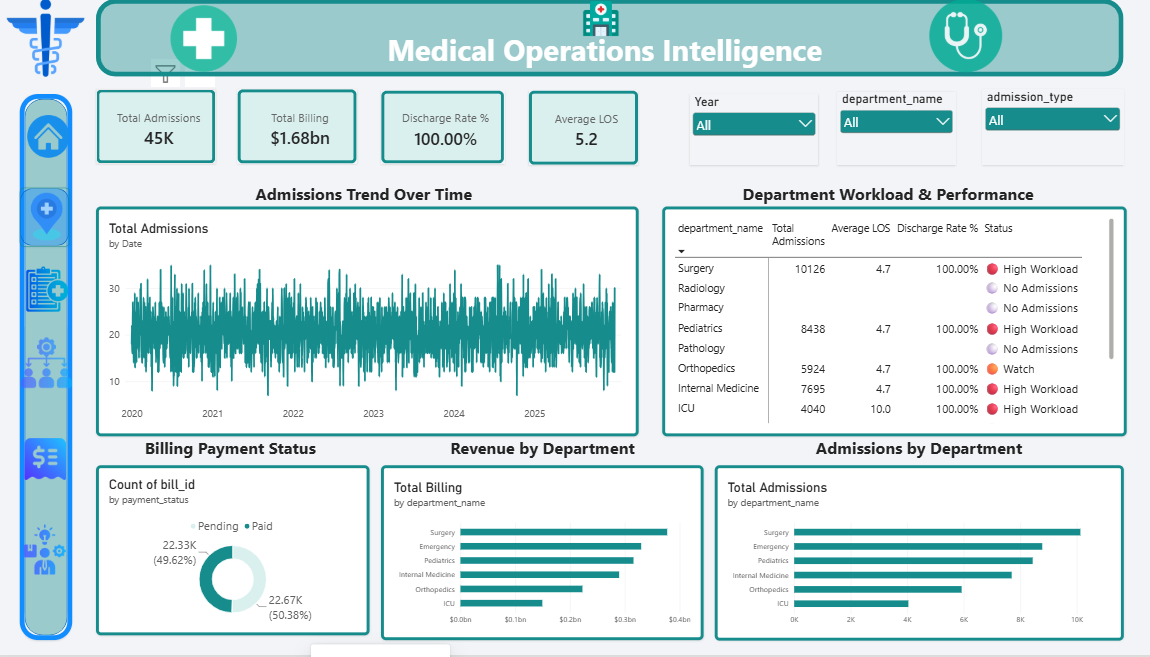

This screenshot's page, from the dashboard's own definition file:
{"tool":"powerbi","page":{"name":"Hospital Overview","canvas":[1920,1080],"ordinal":1},"visuals":[{"type":"cardVisual","fields":{"Data":["Measures (2).Total Admissions"]},"box":[164.7,148.2,197.6,123.5],"z":0},{"type":"cardVisual","fields":{"Data":["Measures (2).Total Billing"]},"box":[397.3,148.2,197.6,123.5],"z":1000},{"type":"cardVisual","fields":{"Data":["Measures (2).Discharge Rate %"]},"box":[634,150.3,203.8,121.4],"z":2000},{"type":"cardVisual","fields":{"Data":["Measures (2).Average LOS"]},"box":[876.8,150.3,181.1,123.5],"z":3000},{"type":"lineChart","fields":{"Category":["Calendar.Date"],"Y":["Measures (2).Total Admissions"]},"box":[164.7,341.7,893.3,378.7],"z":4000},{"type":"clusteredBarChart","fields":{"Category":["department_clean.department_name"],"Y":["Measures (2).Total Billing"]},"box":[634,767.8,531,288.2],"z":5000},{"type":"donutChart","fields":{"Category":["billing_clean.payment_status"],"Y":["CountNonNull(billing_clean.bill_id)"]},"box":[164.7,767.8,450.8,279.9],"z":6000},{"type":"barChart","fields":{"Category":["department_clean.department_name"],"Y":["Measures (2).Total Admissions"]},"box":[1183.3,767.4,674,289.2],"z":7000},{"type":"slicer","fields":{"Values":["Calendar.Year"]},"box":[1142.4,156.4,212,117.3],"z":8000},{"type":"slicer","fields":{"Values":["department_clean.department_name"]},"box":[1385.3,152.3,195.5,121.4],"z":9000},{"type":"slicer","fields":{"Values":["admission_clean.admission_type"]},"box":[1624,148.2,232.6,125.6],"z":10000},{"type":"textbox","box":[63.8,30.9,1691.9,96.7],"z":11000},{"type":"shape","box":[164.7,0,1691.9,127.6],"z":12000},{"type":"image","box":[216.8,11.2,252.5,109.5],"z":13000},{"type":"image","box":[10.3,0,142,127.6],"z":14000},{"type":"textbox","box":[500.2,49.4,1004.5,78.2],"z":15000},{"type":"image","box":[1483.8,0,225.7,120.7],"z":16000},{"type":"image","box":[934.5,0,123.5,63.8],"z":17000},{"type":"shape","box":[39.1,156.4,86.4,899.5],"z":18000},{"type":"image","box":[51.4,178.8,70,94.7],"z":19000},{"type":"image","box":[39.1,679.2,84.4,156.4],"z":20000},{"type":"image","box":[41.2,496.1,84.4,205.8],"z":21000},{"type":"image","box":[39.1,835.7,82.3,142],"z":22000},{"type":"image","box":[30.9,440.5,107,74.1],"z":23000},{"type":"pivotTable","fields":{"Rows":["department_clean.department_name"],"Values":["Measures (2).Total Admissions","Measures (2).Average LOS","Measures (2).Discharge Rate %","Measures (2).Status"]},"box":[1096.6,342.5,765.2,378.1],"z":24000},{"type":"image","box":[26.8,319.6,114,78.2],"z":25000},{"type":"textbox","box":[100.6,272.6,299.4,87.2],"z":26000},{"type":"textbox","box":[154.2,301.7,902.8,58.1],"z":27000},{"type":"textbox","box":[1097.2,301.7,744.1,40.2],"z":28000},{"type":"textbox","box":[154.2,719.6,462.6,49.2],"z":29000},{"type":"textbox","box":[634.6,719.6,531.9,49.2],"z":30000},{"type":"textbox","box":[1184.4,719.6,672.6,49.2],"z":31000},{"type":"shape","box":[39.1,310.8,82.3,96.7],"z":32000}]}

Visuals, with their boxes in screenshot pixels (x1, y1, x2, y2):
cardVisual - Measures (2).Total Admissions: 92/85/213/160
cardVisual - Measures (2).Total Billing: 234/85/355/160
cardVisual - Measures (2).Discharge Rate %: 379/86/504/160
cardVisual - Measures (2).Average LOS: 528/86/639/162
lineChart - Calendar.Date x Measures (2).Total Admissions: 92/203/639/435
clusteredBarChart - department_clean.department_name x Measures (2).Total Billing: 379/464/704/641
donutChart - billing_clean.payment_status x CountNonNull(billing_clean.bill_id): 92/464/368/636
barChart - department_clean.department_name x Measures (2).Total Admissions: 716/464/1128/641
slicer - Calendar.Year: 691/90/820/162
slicer - department_clean.department_name: 839/87/959/162
slicer - admission_clean.admission_type: 986/85/1128/162
textbox: 30/13/1066/72
shape: 92/0/1128/72
image: 124/1/278/68
image: 0/0/84/72
textbox: 297/24/912/72
image: 900/0/1038/68
image: 563/0/639/33
shape: 15/90/68/641
image: 22/104/65/161
image: 15/410/67/506
image: 16/298/68/424
image: 15/506/65/593
image: 10/264/75/309
pivotTable - department_clean.department_name x Measures (2).Total Admissions: 663/204/1131/435
image: 7/190/77/238
textbox: 53/161/236/214
textbox: 85/179/638/214
textbox: 663/179/1119/203
textbox: 85/435/369/465
textbox: 380/435/705/465
textbox: 716/435/1128/465
shape: 15/184/65/244
